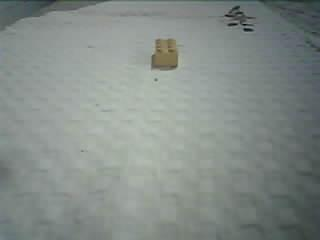lego: (152, 37, 178, 67)
